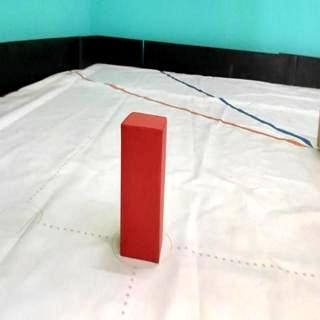redbox: (119, 110, 168, 264)
